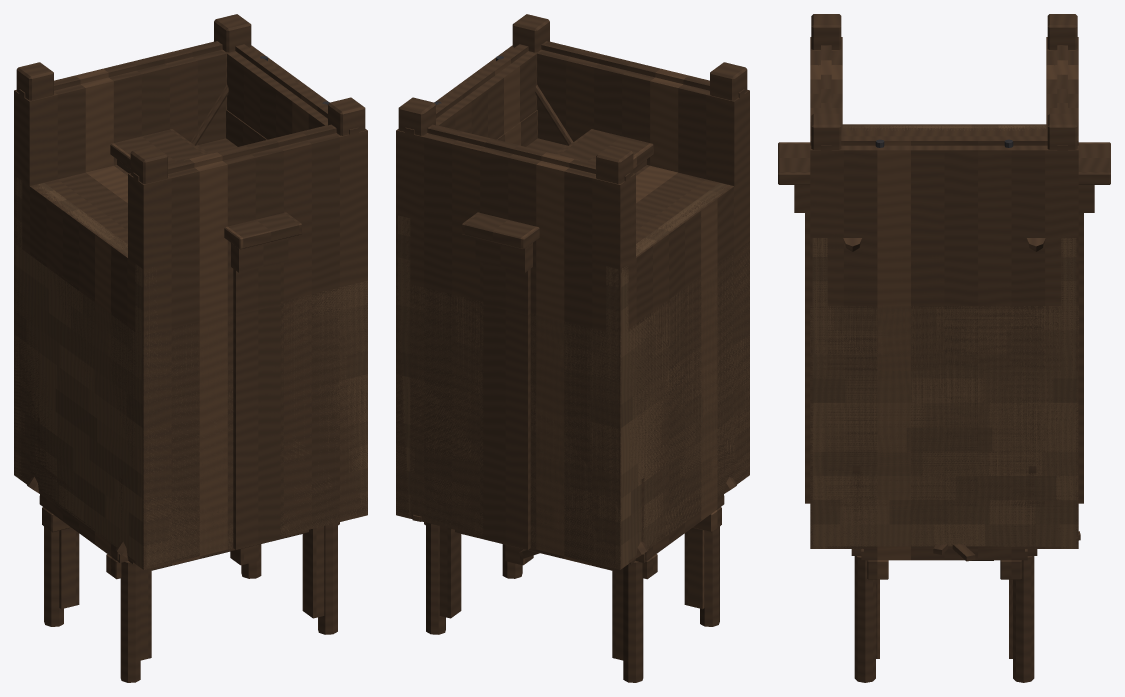
The model's file is board-kit-timber.glb.
3 renders of one model, left to right at view 1: azimuth 30°, elevation 25°; view 2: azimuth 150°, elevation 25°; view 3: azimuth 270°, elevation 25°, orthographic. The views are drawn at different scales.
Parts seen in each view (by area): view 1: tower_far_timber, wall_block_masonry, tower_timber, gate_frame_far_timber, wall_block_far_masonry, gate_frame_timber, bridge_damaged_timber, tower_masonry, bridge_stumps_timber, bridge_stumps_far_timber, bridge_damaged_far_timber, wall_block_far_timber (+1 smaller); view 2: tower_far_timber, wall_block_far_masonry, wall_block_masonry, tower_timber, gate_frame_far_timber, gate_frame_timber, tower_masonry, bridge_damaged_timber, bridge_stumps_timber, bridge_stumps_far_timber, wall_block_far_timber, bridge_damaged_far_timber (+1 smaller); view 3: tower_far_timber, wall_block_masonry, tower_stair_far_timber, tower_timber, tower_masonry, bridge_damaged_timber, wall_block_far_masonry, gate_frame_far_timber, gate_frame_timber, bridge_damaged_far_timber, tower_stair_timber, bridge_stumps_timber.
Part boxes in pixels (<box>): tower_far_timber: <box>14,41,367,569</box>; wall_block_masonry: <box>15,245,365,566</box>; tower_timber: <box>14,14,367,280</box>; gate_frame_far_timber: <box>117,159,288,549</box>; wall_block_far_masonry: <box>14,256,367,569</box>; gate_frame_timber: <box>110,129,301,519</box>; bridge_damaged_timber: <box>34,413,339,682</box>; tower_masonry: <box>15,176,157,568</box>; bridge_stumps_timber: <box>59,526,324,660</box>; bridge_stumps_far_timber: <box>59,528,323,660</box>; bridge_damaged_far_timber: <box>35,417,122,560</box>; wall_block_far_timber: <box>226,110,359,286</box>; tower_far_timber: <box>396,41,749,569</box>; wall_block_far_masonry: <box>396,248,749,569</box>; wall_block_masonry: <box>399,286,678,565</box>; tower_timber: <box>396,14,749,280</box>; gate_frame_far_timber: <box>475,159,646,549</box>; gate_frame_timber: <box>462,129,653,542</box>; tower_masonry: <box>398,183,732,568</box>; bridge_damaged_timber: <box>424,473,724,682</box>; bridge_stumps_timber: <box>439,526,704,660</box>; bridge_stumps_far_timber: <box>439,528,704,659</box>; wall_block_far_timber: <box>404,110,537,287</box>; bridge_damaged_far_timber: <box>641,418,725,560</box>; tower_far_timber: <box>810,37,1078,548</box>; wall_block_masonry: <box>813,309,1075,546</box>; tower_stair_far_timber: <box>848,238,1040,548</box>; tower_timber: <box>810,14,1078,249</box>; tower_masonry: <box>812,125,1076,548</box>; bridge_damaged_timber: <box>851,466,1037,682</box>; wall_block_far_masonry: <box>810,306,1078,548</box>; gate_frame_far_timber: <box>794,185,1094,503</box>; gate_frame_timber: <box>778,142,1110,184</box>; bridge_damaged_far_timber: <box>854,471,1034,558</box>; tower_stair_timber: <box>843,238,1045,251</box>; bridge_stumps_timber: <box>876,579,1012,658</box>.
Size of the model in its own units: 2.85 by 5.75 by 3.1.
3 materials, 3 textured.
